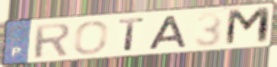3: (193, 11, 225, 48)
A: (147, 14, 189, 51)
M: (223, 6, 274, 48)
O: (71, 19, 110, 56)
R: (33, 22, 73, 60)
T: (117, 16, 147, 53)
